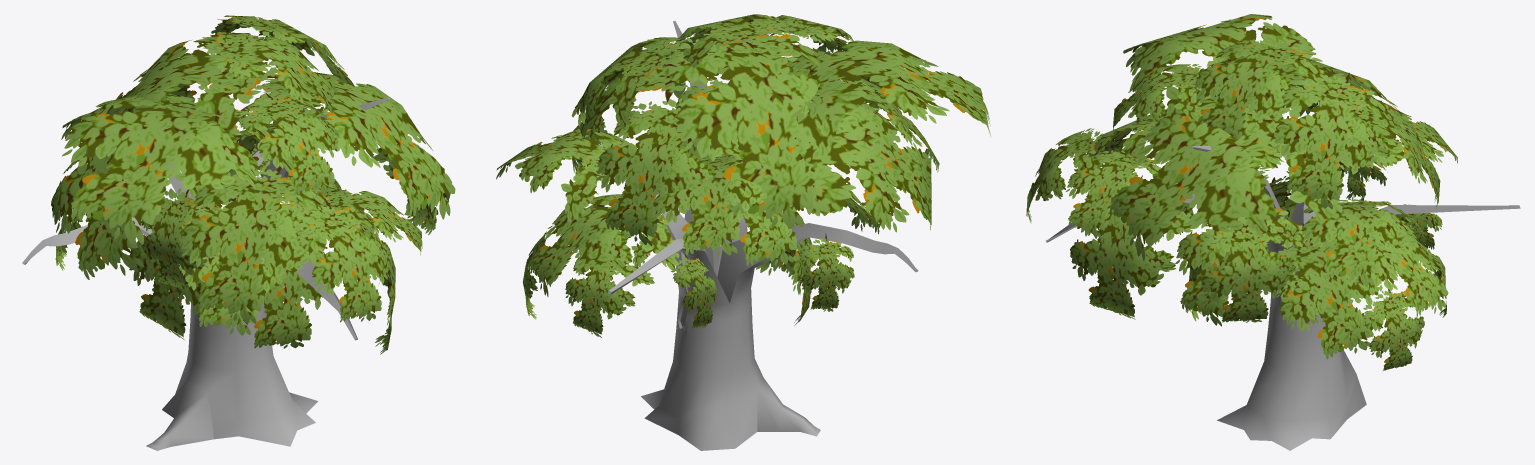
Rendered from SM_Tree_04_Redone.fbx.
3 renders of one model, left to right at view 1: azimuth 30°, elevation 25°; view 2: azimuth 150°, elevation 25°; view 3: azimuth 270°, elevation 25°, orthographic. The views are drawn at different scales.
Parts seen in each view (by area): view 1: pPlane35; view 2: pPlane35; view 3: pPlane35.
Boxes of the visible parts, bbox=[...] form: pPlane35: bbox=[22, 15, 455, 450]; pPlane35: bbox=[496, 14, 990, 450]; pPlane35: bbox=[1026, 14, 1520, 450].
Bounding box in the file's own units: 3737 × 3200 × 4018.
